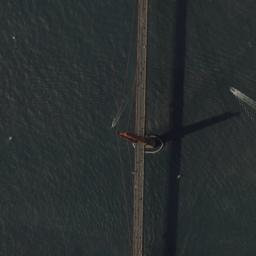boat: (229, 85, 235, 93), (6, 134, 12, 141), (110, 124, 114, 130)
